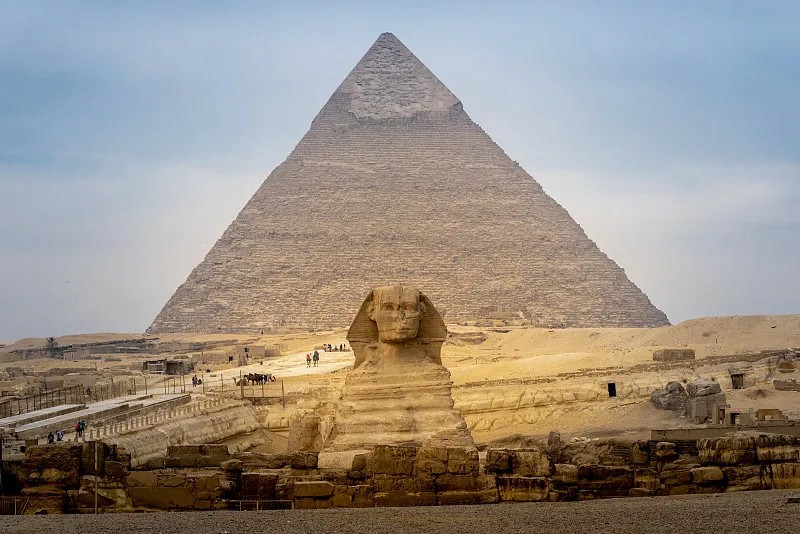Pyramid: (144, 30, 676, 333)
